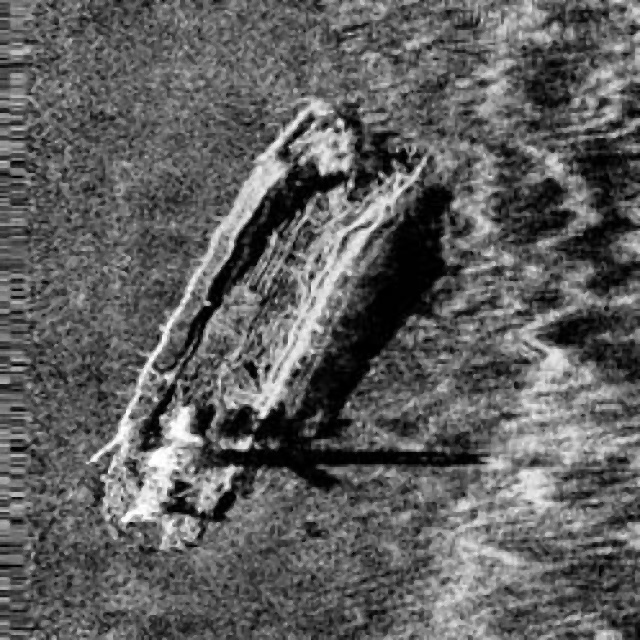Ship: (85, 89, 446, 555)
